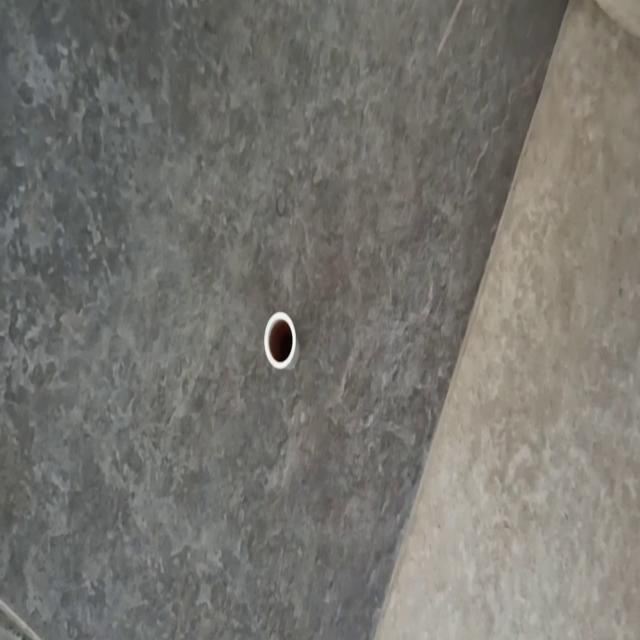Cube: (263, 309, 297, 370)
